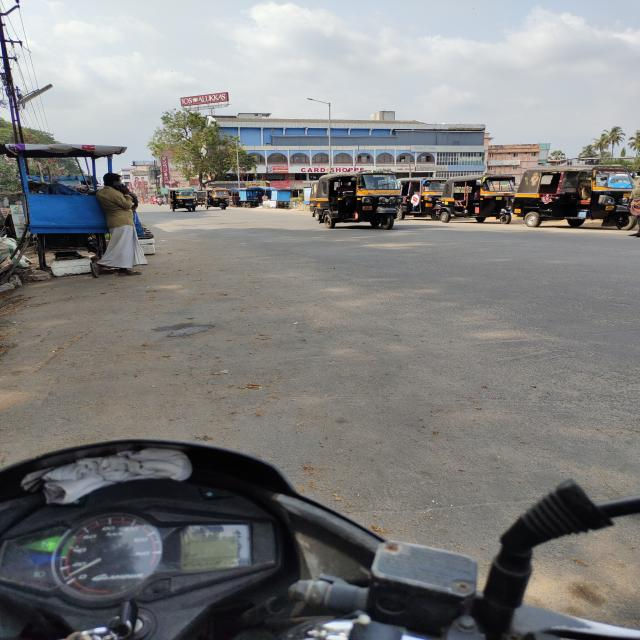Autorickshaw: (440, 172, 521, 225), (206, 186, 231, 212)
Bike: (156, 196, 164, 206)
Car: (150, 197, 165, 204)
tempo: (514, 161, 640, 229), (318, 170, 404, 231), (396, 176, 452, 220), (167, 186, 199, 214), (308, 178, 328, 222)
